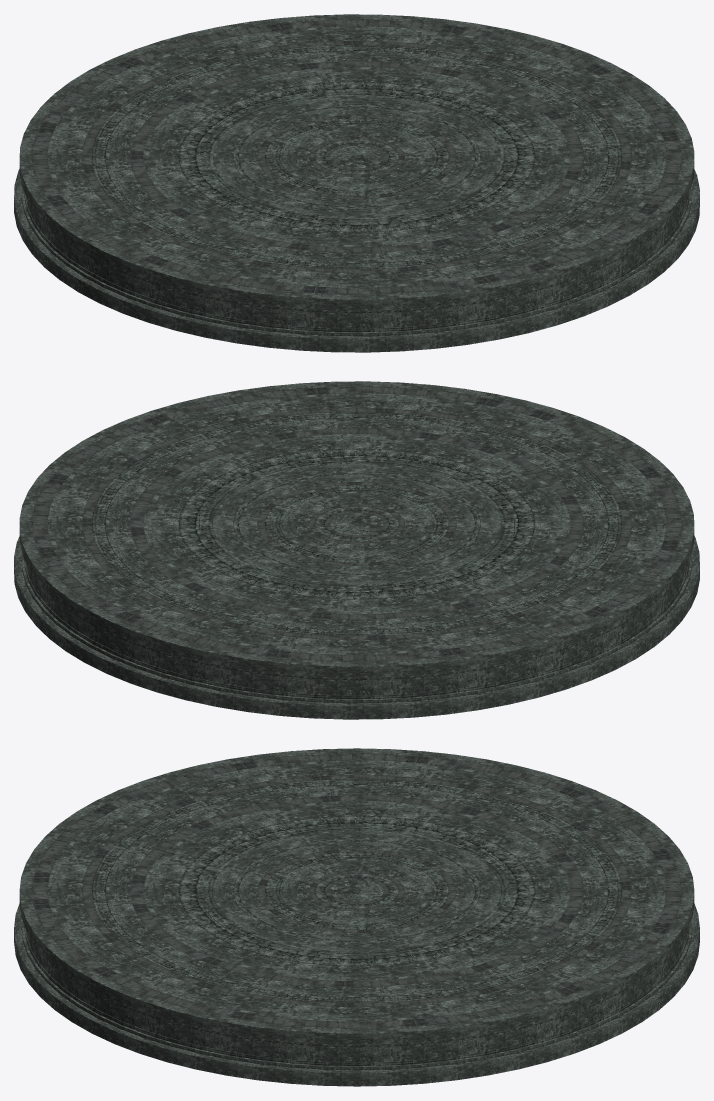
File: mg_9_plate_3.fbx
The picture shows the model from 3 angles, top to bottom: view 1: azimuth 30°, elevation 25°; view 2: azimuth 150°, elevation 25°; view 3: azimuth 270°, elevation 25°; orthographic projection.
Visible parts, largest first — view 1: mg_9_plate_3; view 2: mg_9_plate_3; view 3: mg_9_plate_3.
Part boxes in pixels (<box>): mg_9_plate_3: <box>14,14,699,352</box>; mg_9_plate_3: <box>14,381,699,719</box>; mg_9_plate_3: <box>14,748,699,1086</box>.
Size of the model in its own units: 2393 by 195 by 2393.
